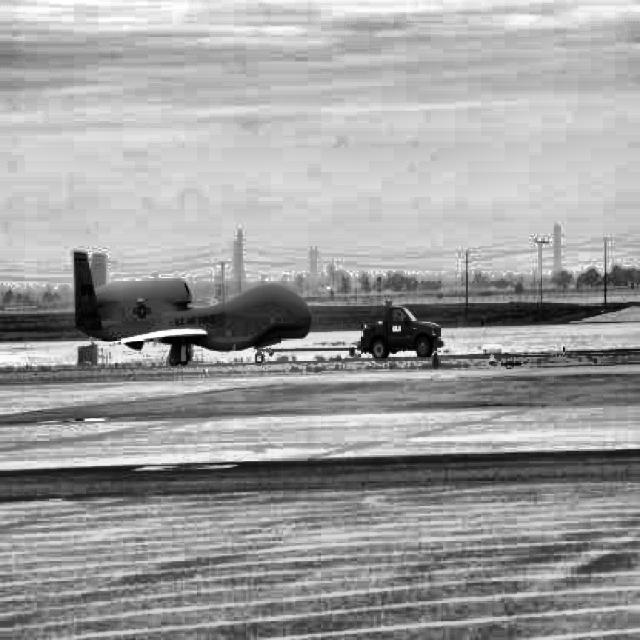RQ4: (74, 251, 312, 366)
